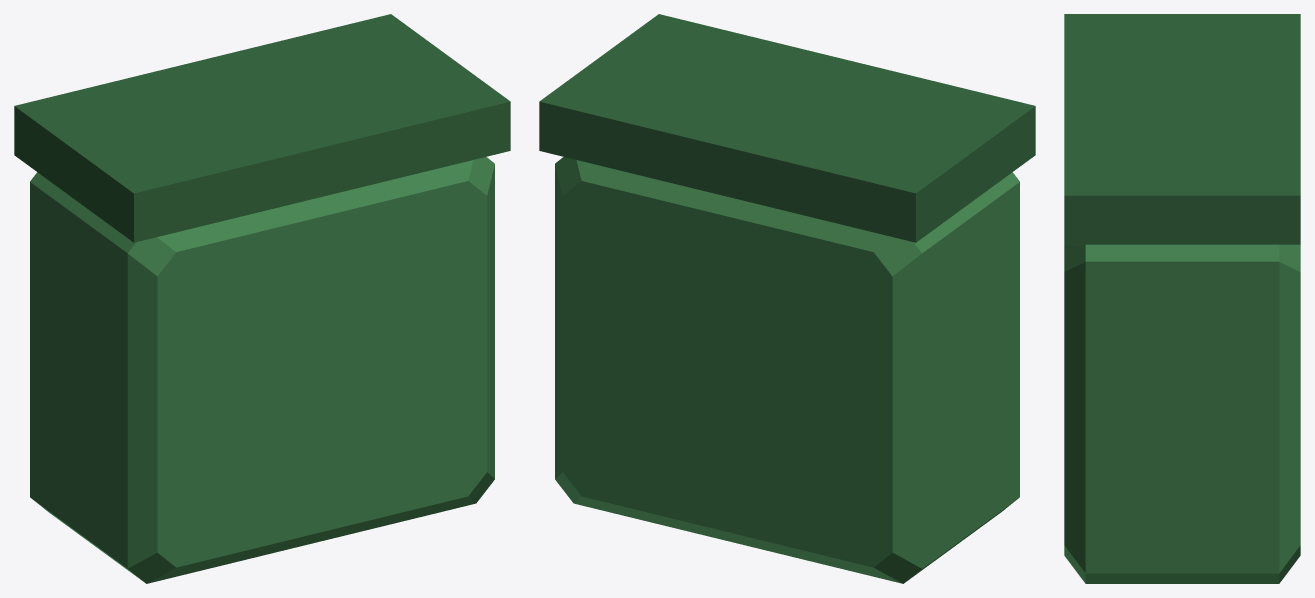
File: SM_Prop_Container_01.glb
3 views of the same model, side by side, from view 1: azimuth 30°, elevation 25°; view 2: azimuth 150°, elevation 25°; view 3: azimuth 270°, elevation 25° (orthographic).
Visible parts, largest first — view 1: SM_Prop_Container_01; view 2: SM_Prop_Container_01; view 3: SM_Prop_Container_01.
Boxes of the visible parts, x1,y1,x2,y2 form: SM_Prop_Container_01: [14, 14, 510, 583]; SM_Prop_Container_01: [539, 14, 1035, 583]; SM_Prop_Container_01: [1064, 14, 1300, 583].
Bounding box in the file's own units: 0.4 × 0.41 × 0.22.
Materials: 1 (1 with a texture image).
